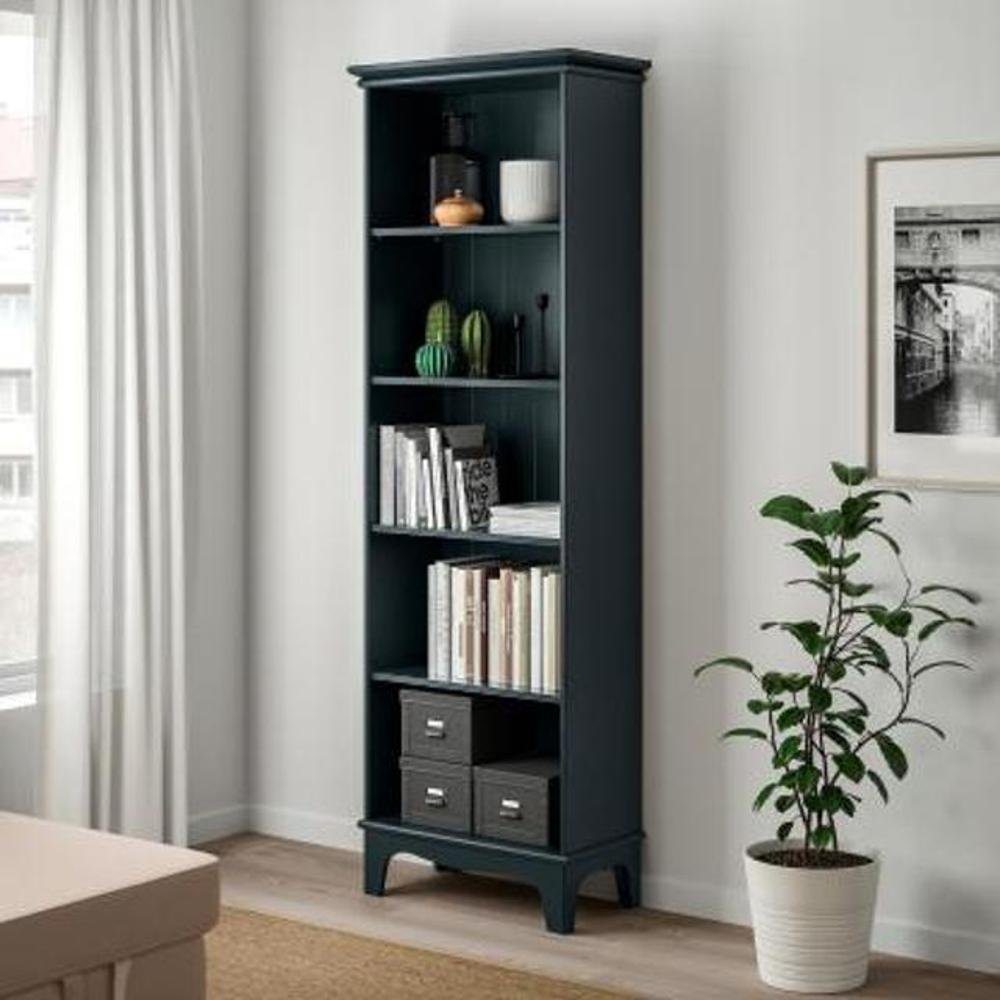lamp: (346, 45, 657, 941)
